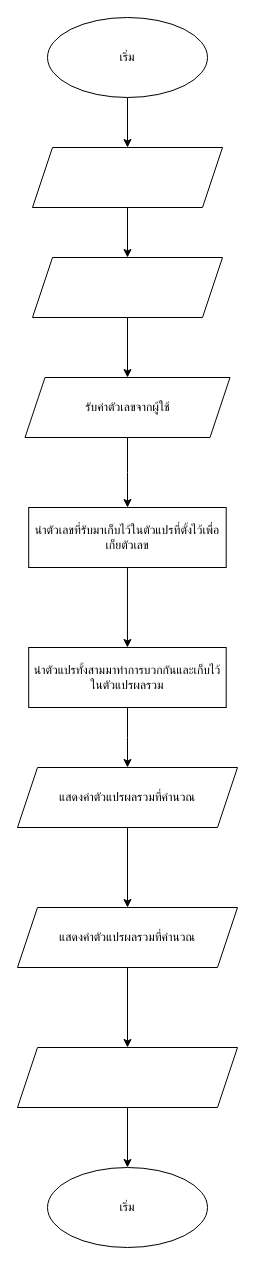
Some shapes in this 255 by 1265 pixel diagram are drawn without their labels. The shapes that lost their labels are listed below. From the top down, each one's box as (x1, y1, x2, y2) in pixels, then its label:
(32, 146, 222, 208): กำหนเตัวแปร 3 ตัวเพื่อเก็บตัวเลข
(32, 256, 222, 318): กำหนเตัวแปร 1 ตัวเพื่อเก็บผลรวม
(16, 1046, 238, 1108): Answer = .....
